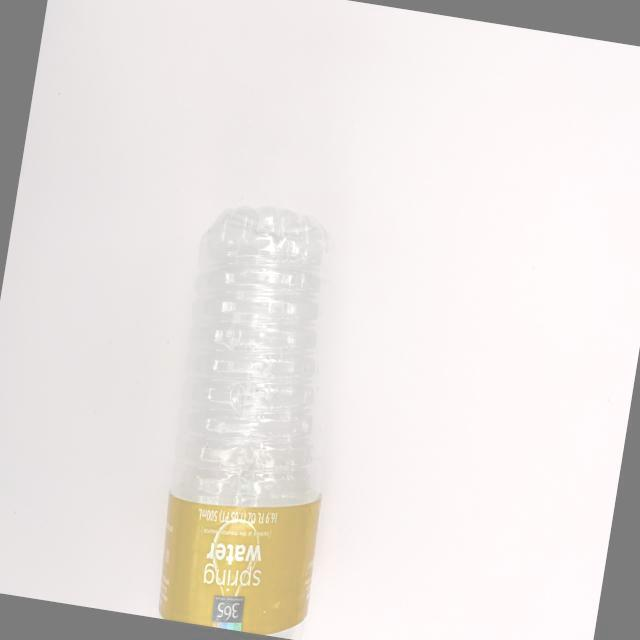plastic: (84, 169, 378, 640)
